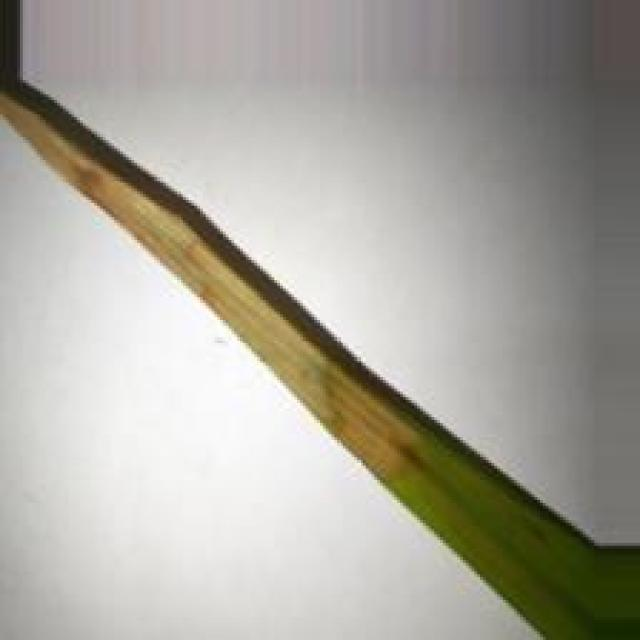Leaf_Scald: (1, 92, 422, 488)
